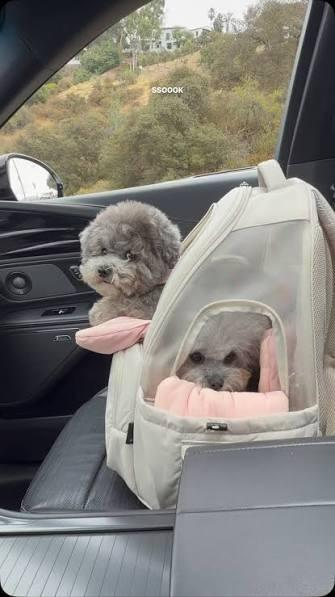adult_dog: (78, 200, 180, 328)
puppy-dog: (174, 311, 271, 394)
